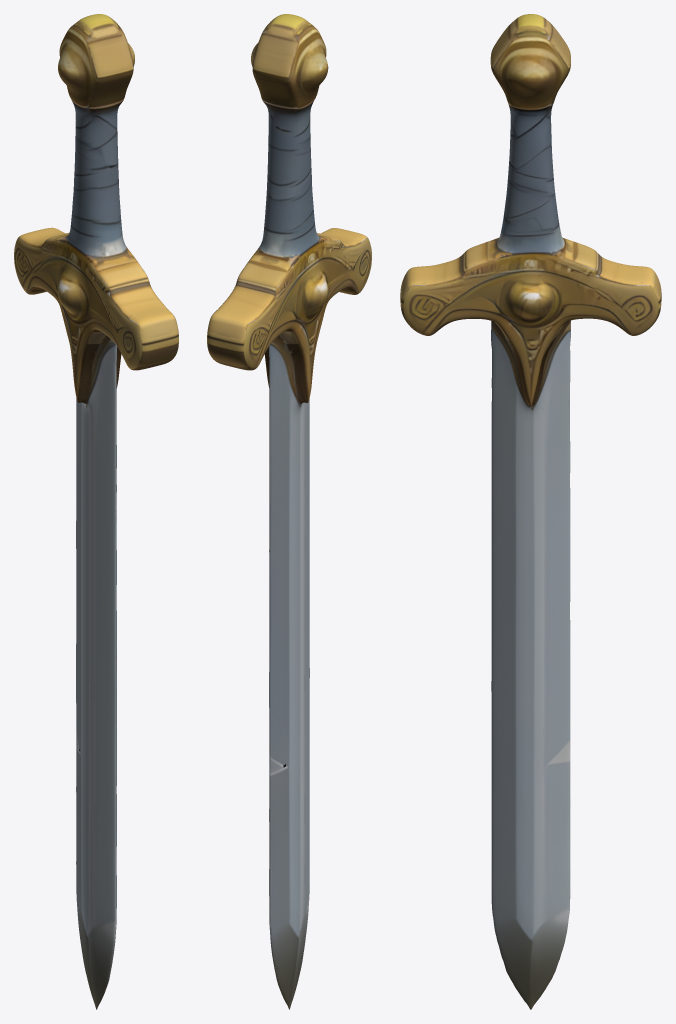
Rendered from Sword 07.fbx.
The picture shows the model from 3 angles, left to right: view 1: azimuth 30°, elevation 25°; view 2: azimuth 150°, elevation 25°; view 3: azimuth 270°, elevation 25°; orthographic projection.
Parts seen in each view (by area): view 1: Sword 07; view 2: Sword 07; view 3: Sword 07.
Boxes of the visible parts, bbox=[...] form: Sword 07: bbox=[14, 14, 178, 1009]; Sword 07: bbox=[207, 14, 371, 1009]; Sword 07: bbox=[400, 14, 661, 1009].
Bounding box in the file's own units: 14.54 × 188 × 44.96.
1 material, 1 textured.
